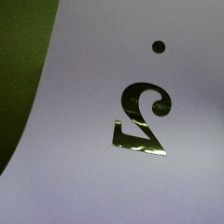violet2: (104, 35, 179, 159)
